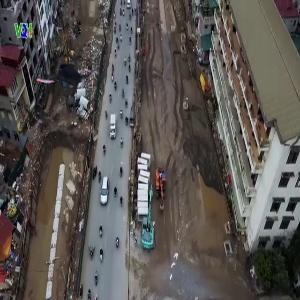drone: (27, 39, 98, 110)
